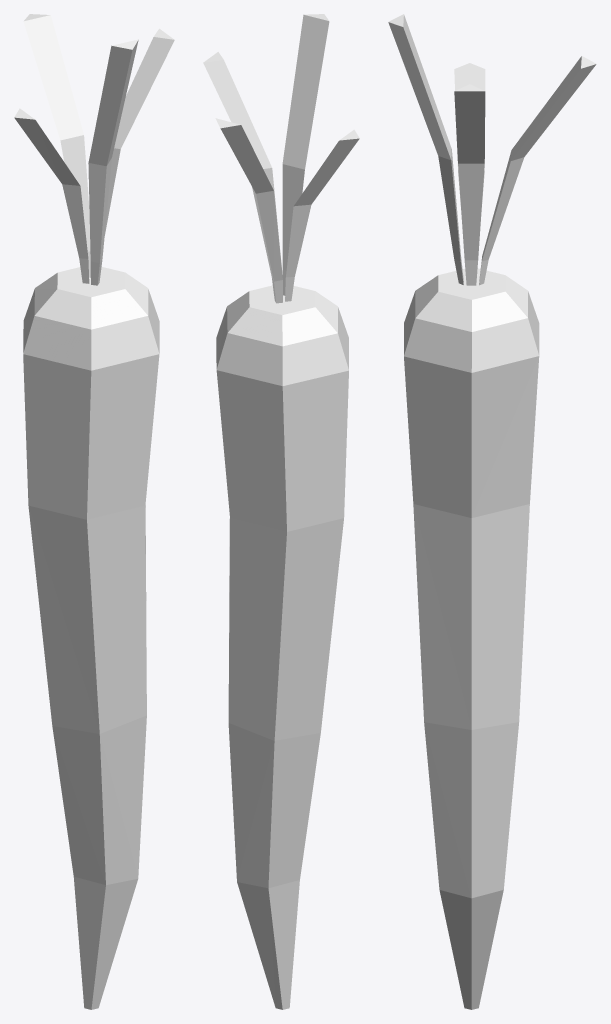
File: Crop_Carrot_03.glb
3 views of the same model, side by side, from view 1: azimuth 30°, elevation 25°; view 2: azimuth 150°, elevation 25°; view 3: azimuth 270°, elevation 25° (orthographic). The views are drawn at different scales.
Visible parts, largest first — view 1: Crop_Carrot_03; view 2: Crop_Carrot_03; view 3: Crop_Carrot_03.
Part boxes in pixels (x1,y1,x2,y2): Crop_Carrot_03: (14,14,174,1009); Crop_Carrot_03: (203,14,359,1009); Crop_Carrot_03: (388,14,596,1009).
Bounding box in the file's own units: 0.0828 × 0.5114 × 0.0981.
1 material, 1 textured.
